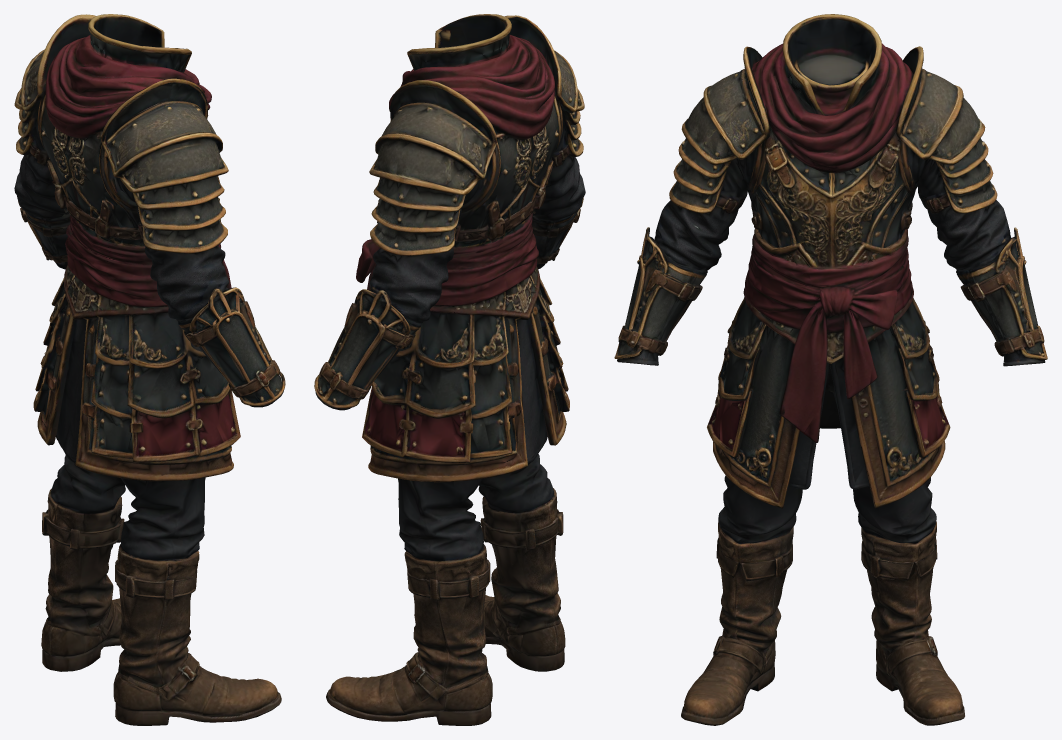
Rendered from medieval.glb.
3 views of the same model, side by side, from view 1: azimuth 30°, elevation 25°; view 2: azimuth 150°, elevation 25°; view 3: azimuth 270°, elevation 25° (orthographic).
Parts seen in each view (by area): view 1: tripo_node_e1847028-0aef-4f1c-977e-cd0dd40e5f81; view 2: tripo_node_e1847028-0aef-4f1c-977e-cd0dd40e5f81; view 3: tripo_node_e1847028-0aef-4f1c-977e-cd0dd40e5f81.
Boxes of the visible parts, bbox=[...] form: tripo_node_e1847028-0aef-4f1c-977e-cd0dd40e5f81: bbox=[14, 14, 285, 725]; tripo_node_e1847028-0aef-4f1c-977e-cd0dd40e5f81: bbox=[314, 14, 585, 725]; tripo_node_e1847028-0aef-4f1c-977e-cd0dd40e5f81: bbox=[614, 14, 1047, 725].
Bounding box in the file's own units: 0.2574 × 0.9796 × 0.5816.
1 material, 1 textured.
